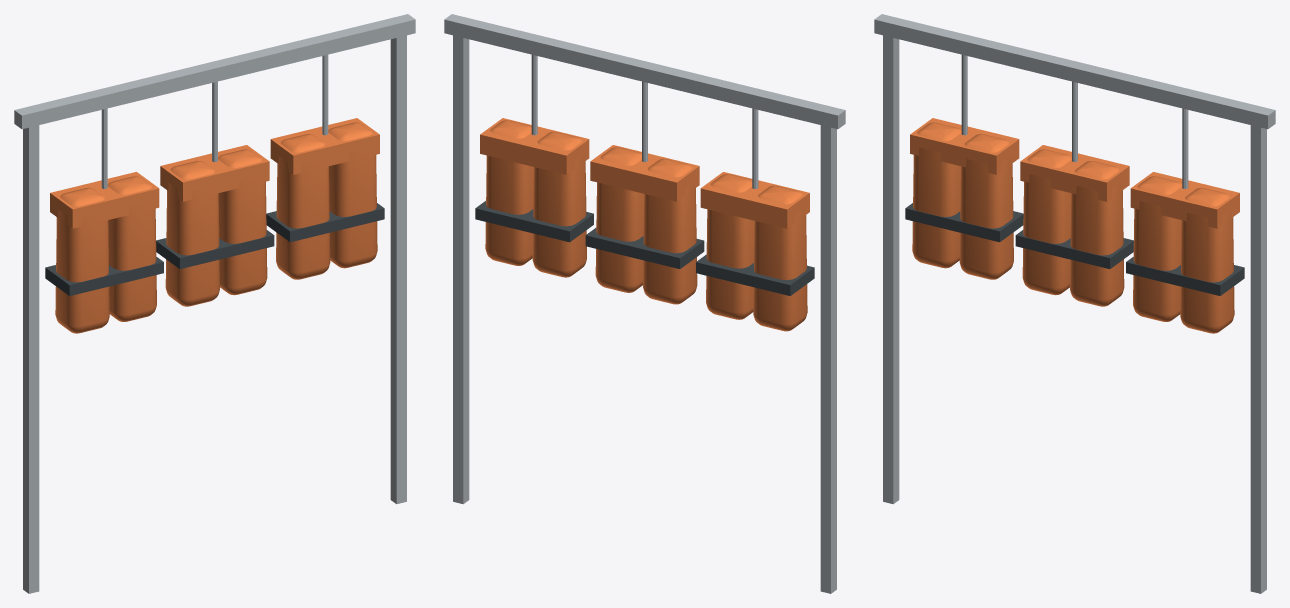
The model's file is powerboat-racing-and-launch-ramp-life-jacket-rack-52970743__22271.glb.
The picture shows the model from 3 angles, left to right: view 1: azimuth 30°, elevation 25°; view 2: azimuth 150°, elevation 25°; view 3: azimuth 330°, elevation 25°; orthographic projection.
Visible parts, largest first — view 1: life-jacket-rack; view 2: life-jacket-rack; view 3: life-jacket-rack.
Boxes of the visible parts, box(x1,y1,x2,y2) form: life-jacket-rack: box(14, 14, 415, 593); life-jacket-rack: box(444, 14, 845, 593); life-jacket-rack: box(874, 14, 1275, 593).
Bounding box in the file's own units: 1.5 × 1.75 × 0.16.
